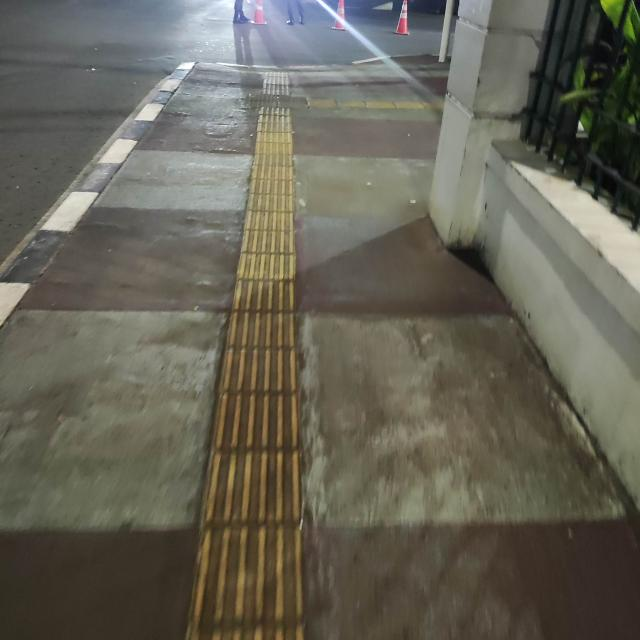lurus: (206, 100, 319, 640)
